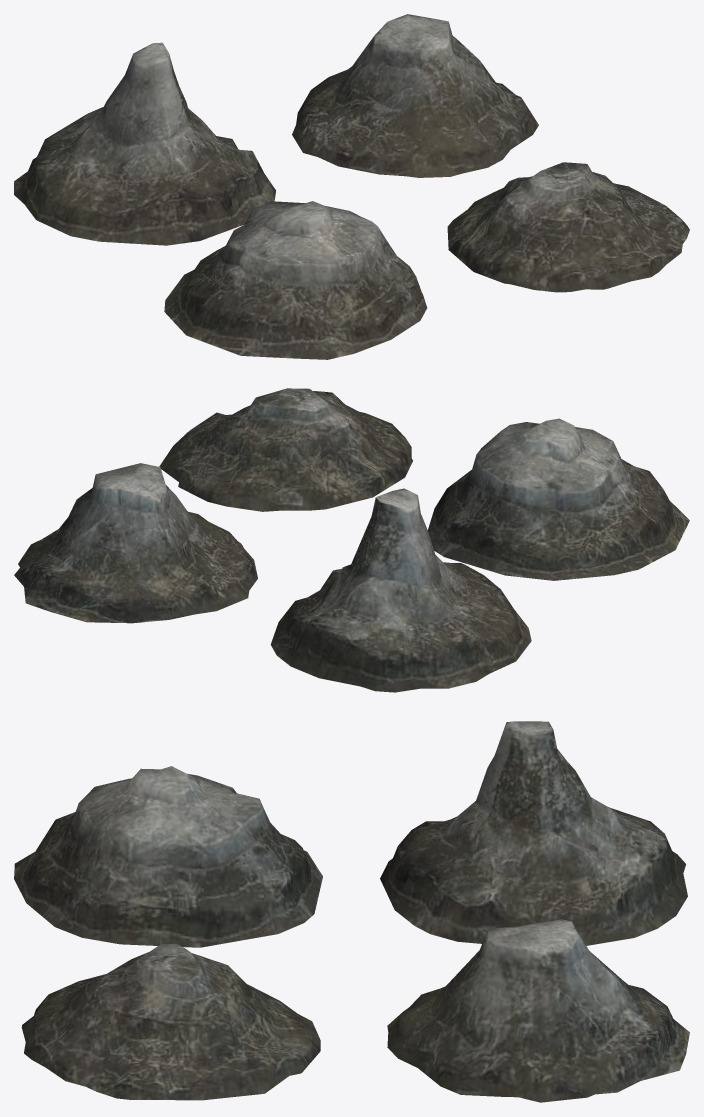
Rendered from mountains.glb.
3 views of the same model, one above another, from view 1: azimuth 30°, elevation 25°; view 2: azimuth 150°, elevation 25°; view 3: azimuth 270°, elevation 25° (orthographic). The views are drawn at different scales.
Parts seen in each view (by area): view 1: mountain2, mountain1, mountain3, mountain4; view 2: mountain2, mountain1, mountain3, mountain4; view 3: mountain2, mountain1, mountain3, mountain4.
Boxes of the visible parts, x1,y1,x2,y2 form: mountain2: (14,42,275,245); mountain1: (164,201,427,359); mountain3: (292,14,538,177); mountain4: (447,162,689,292); mountain2: (270,488,531,692); mountain1: (427,418,689,580); mountain3: (14,463,257,623); mountain4: (159,388,412,511); mountain2: (380,721,687,945); mountain1: (14,766,322,947); mountain3: (387,919,689,1102); mountain4: (21,944,320,1100).
Size of the model in its own units: 18.95 by 5.1 by 18.93.
Materials: 1 (1 with a texture image).
